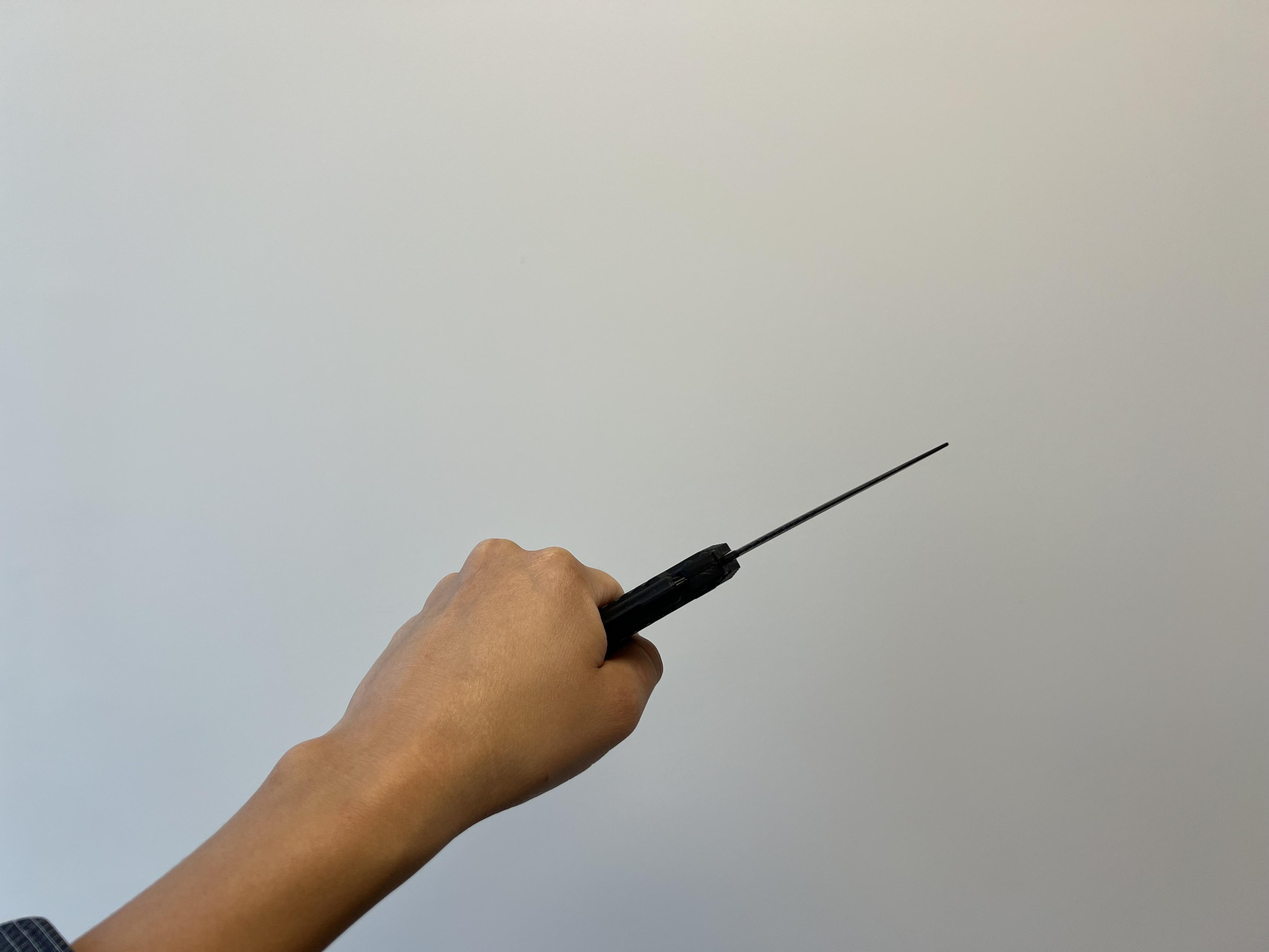Knife: (2, 530, 666, 952), (329, 530, 670, 837), (587, 430, 960, 682)
